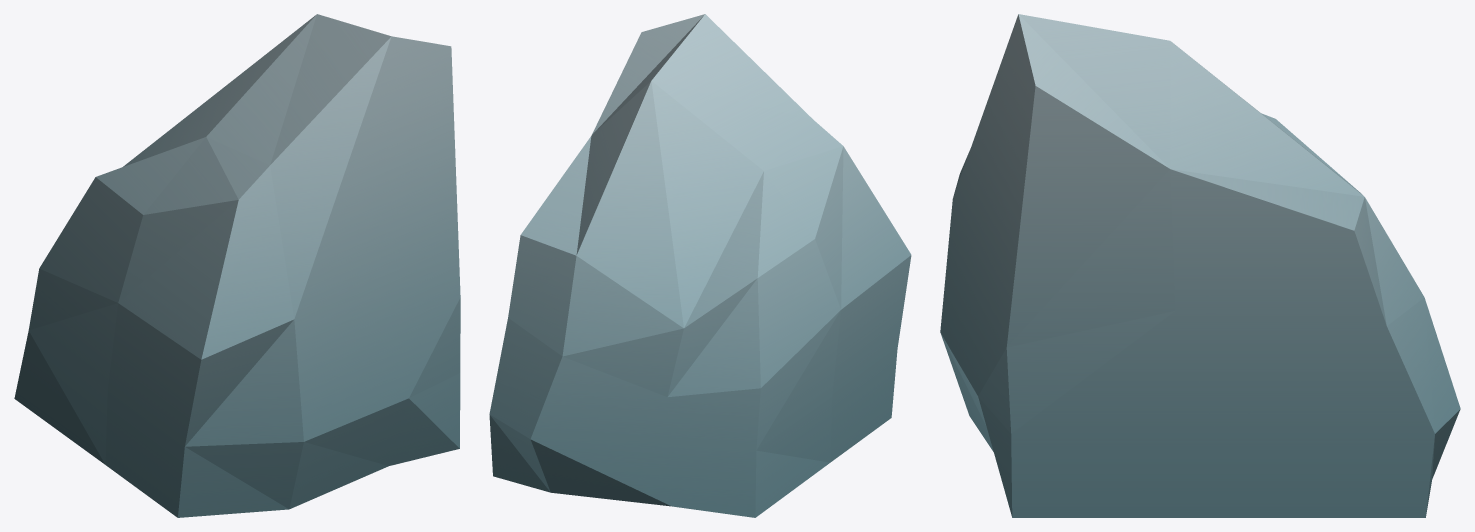
File: Rock_Body.FBX
The picture shows the model from 3 angles, left to right: view 1: azimuth 30°, elevation 25°; view 2: azimuth 150°, elevation 25°; view 3: azimuth 270°, elevation 25°; orthographic projection. The views are drawn at different scales.
Visible parts, largest first — view 1: SM_Rock_Body; view 2: SM_Rock_Body; view 3: SM_Rock_Body.
Boxes of the visible parts, bbox=[...] form: SM_Rock_Body: bbox=[14, 14, 460, 517]; SM_Rock_Body: bbox=[489, 14, 911, 517]; SM_Rock_Body: bbox=[940, 14, 1460, 517].
Size of the model in its own units: 28.86 by 41.16 by 41.41.
